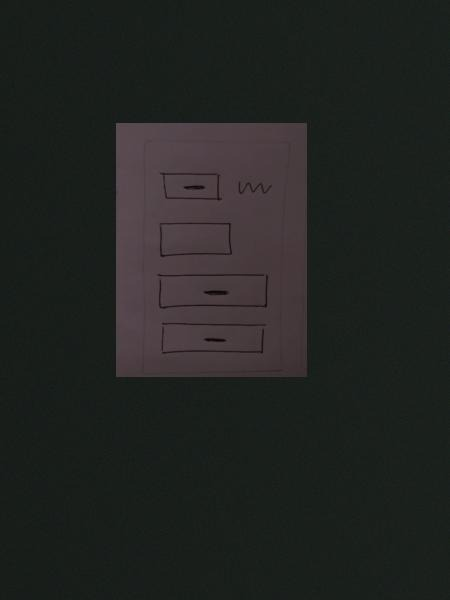button: (154, 272, 271, 313), (156, 320, 271, 357), (158, 170, 227, 205)
text: (237, 178, 273, 200)
text_input: (157, 219, 234, 260)
